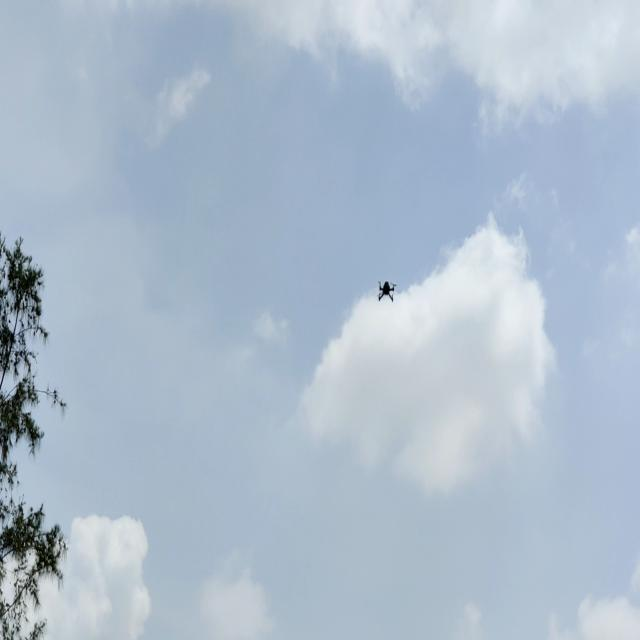drone: (374, 278, 401, 304)
